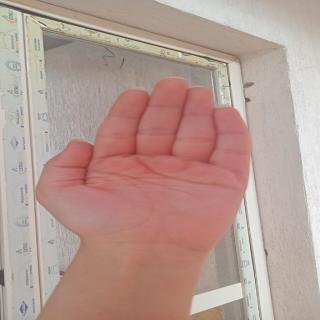SEEN: (28, 77, 272, 251)
